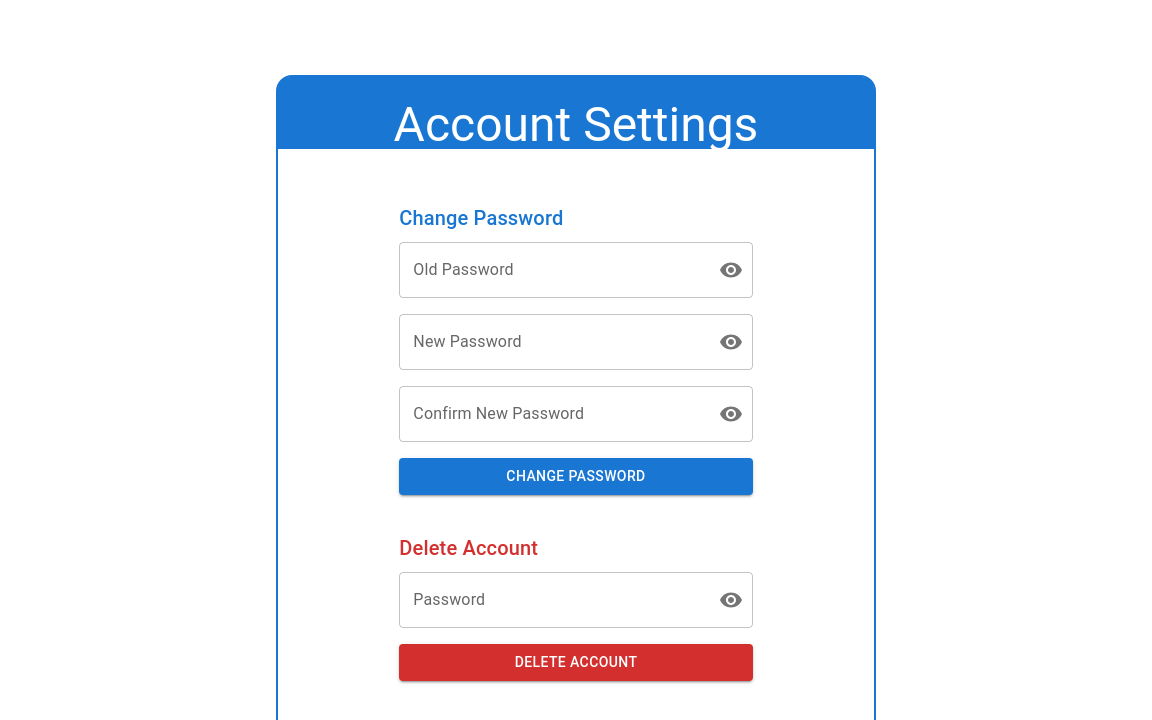
AccountMasterPane › When loaded with the correct app data › when the Change Password button is clicked › sends the ERR_MSG.INPUT_IS_BLANK message when the confirm new password field is blank
The width and height of the screenshot is (1152, 720).
Type "oldPassword" into the password field labelled "Old Password" at (551, 270), box top-left (399, 242), bottom-right (703, 298)
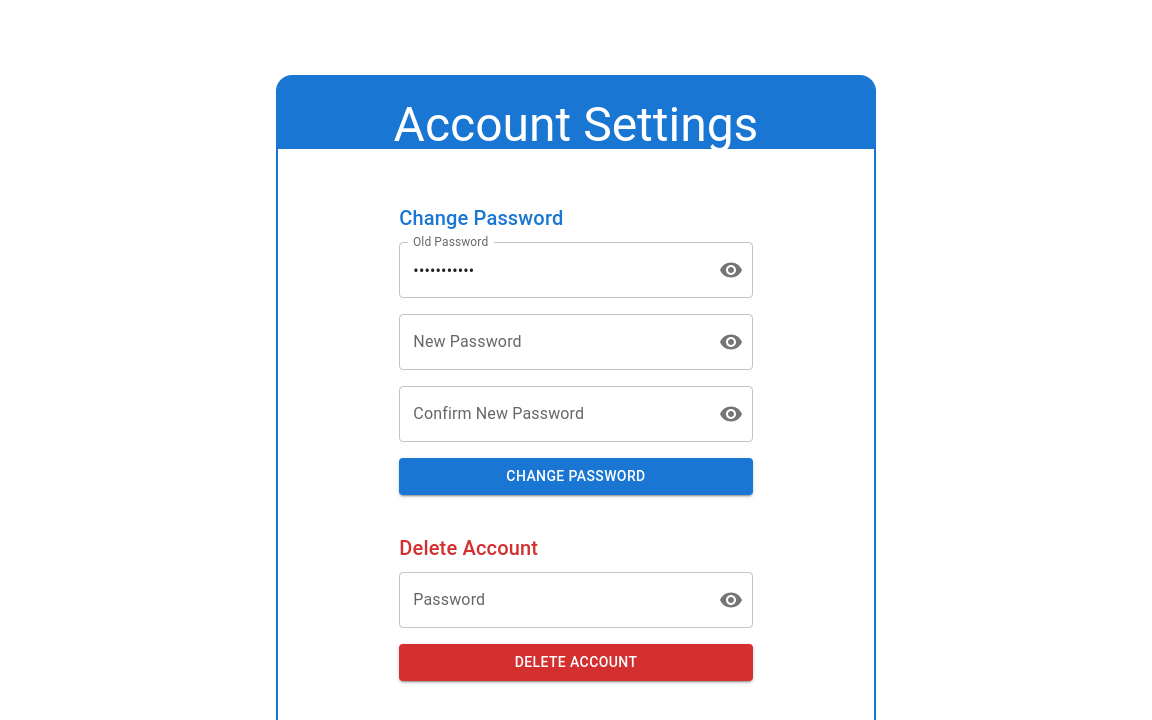
Type "newPassword" into the password field labelled "New Password" at (551, 342), box top-left (399, 314), bottom-right (703, 370)
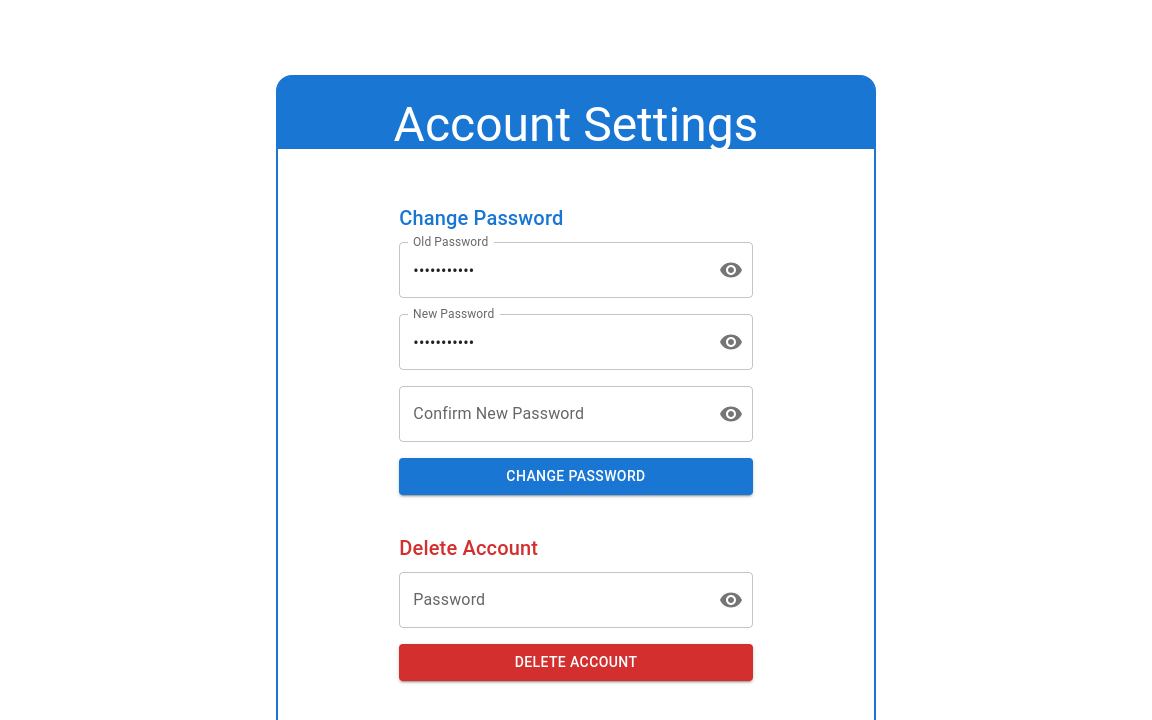
Type "newPassword" into the password field labelled "Confirm New Password" at (551, 414), box top-left (399, 386), bottom-right (703, 442)
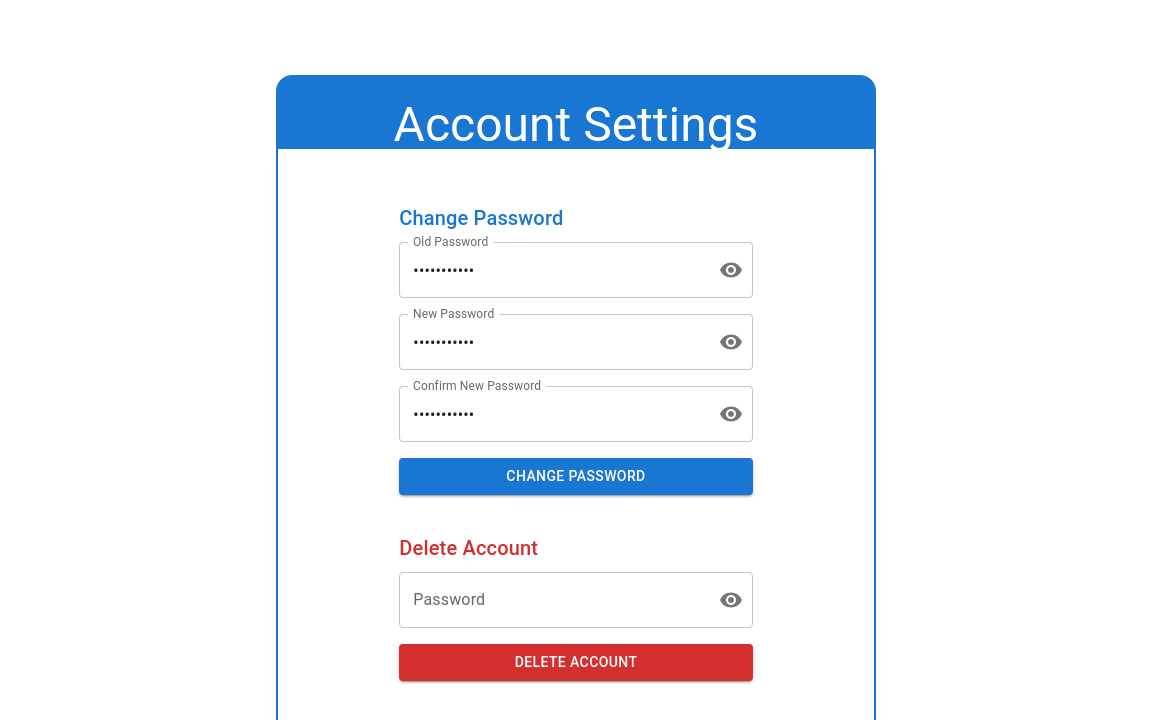
Clear the password field labelled "Confirm New Password" at (551, 414), box top-left (399, 386), bottom-right (703, 442)
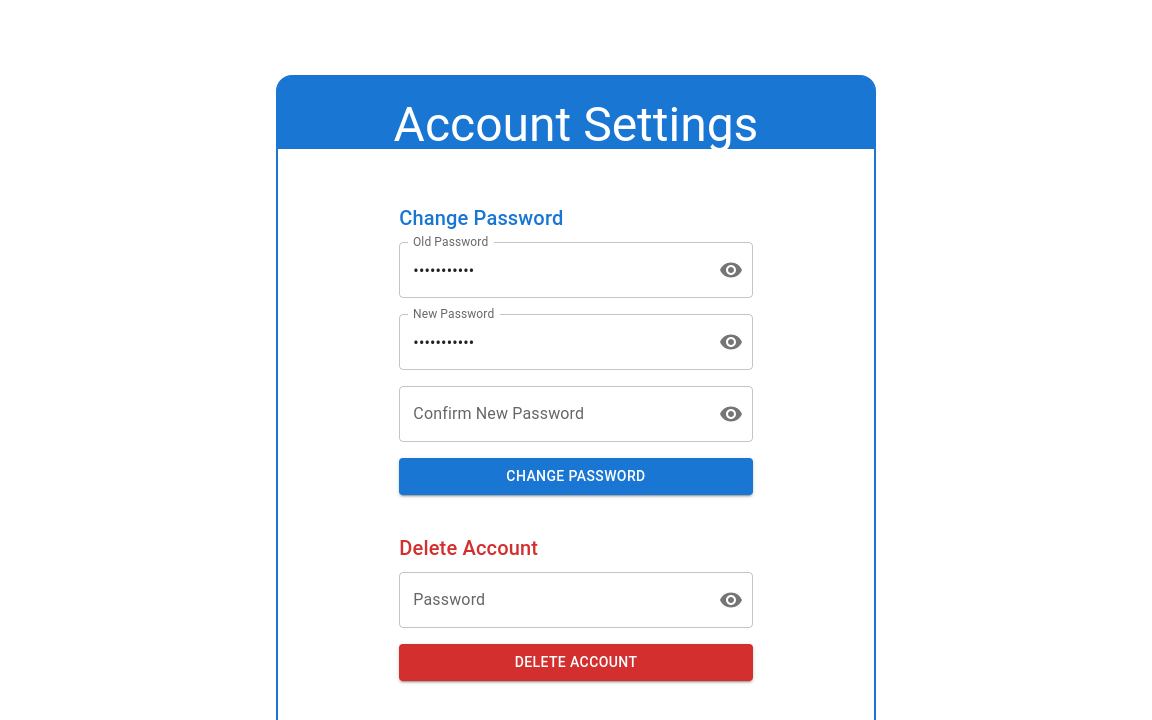
Click the button "Change Password" at (576, 476), box top-left (399, 458), bottom-right (753, 495)
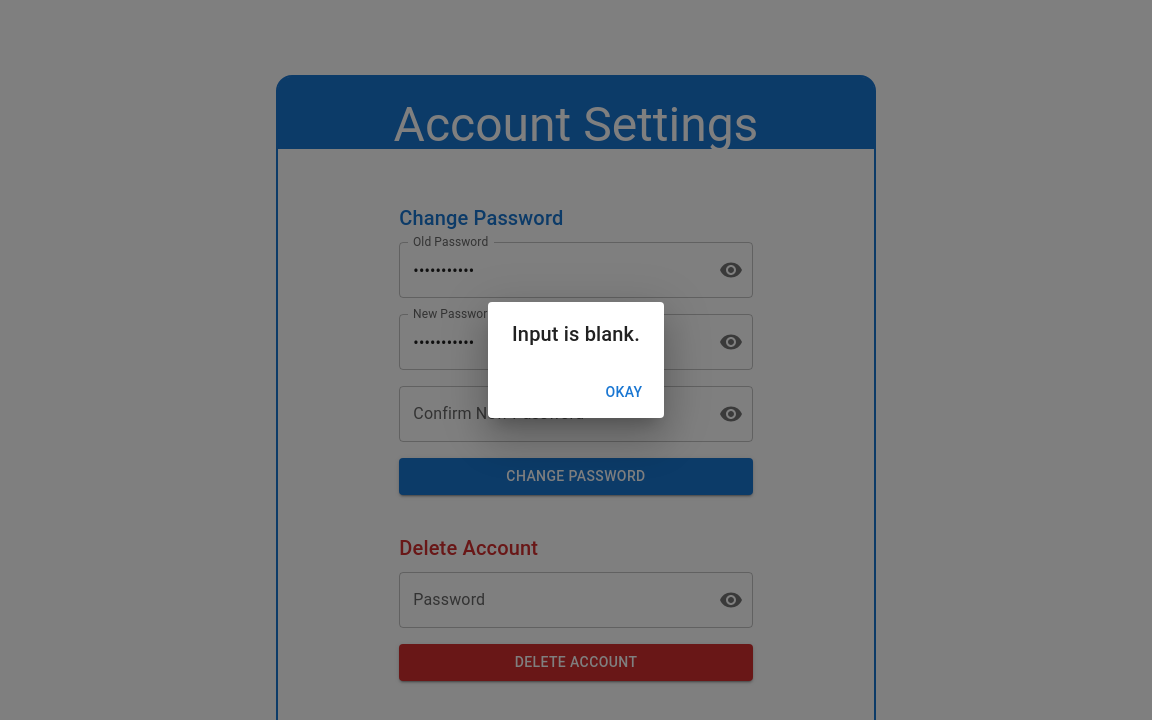
Check: the heading "Input is blank." is shown, box top-left (512, 322), bottom-right (640, 346)
